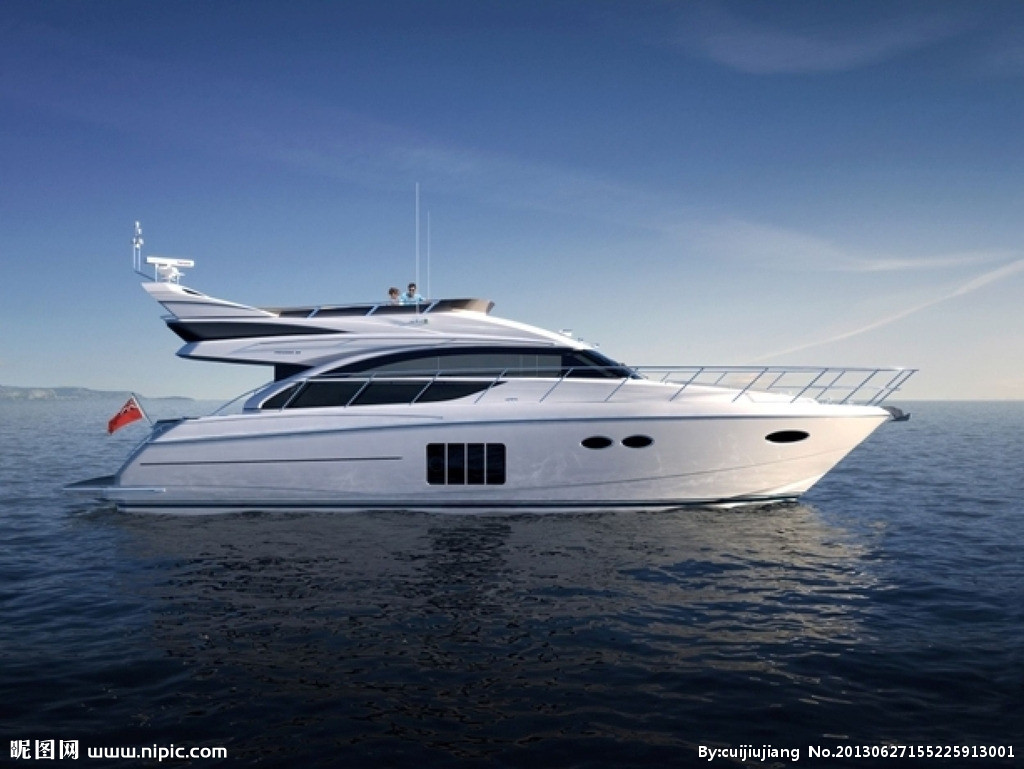yacht: (54, 190, 927, 517)
